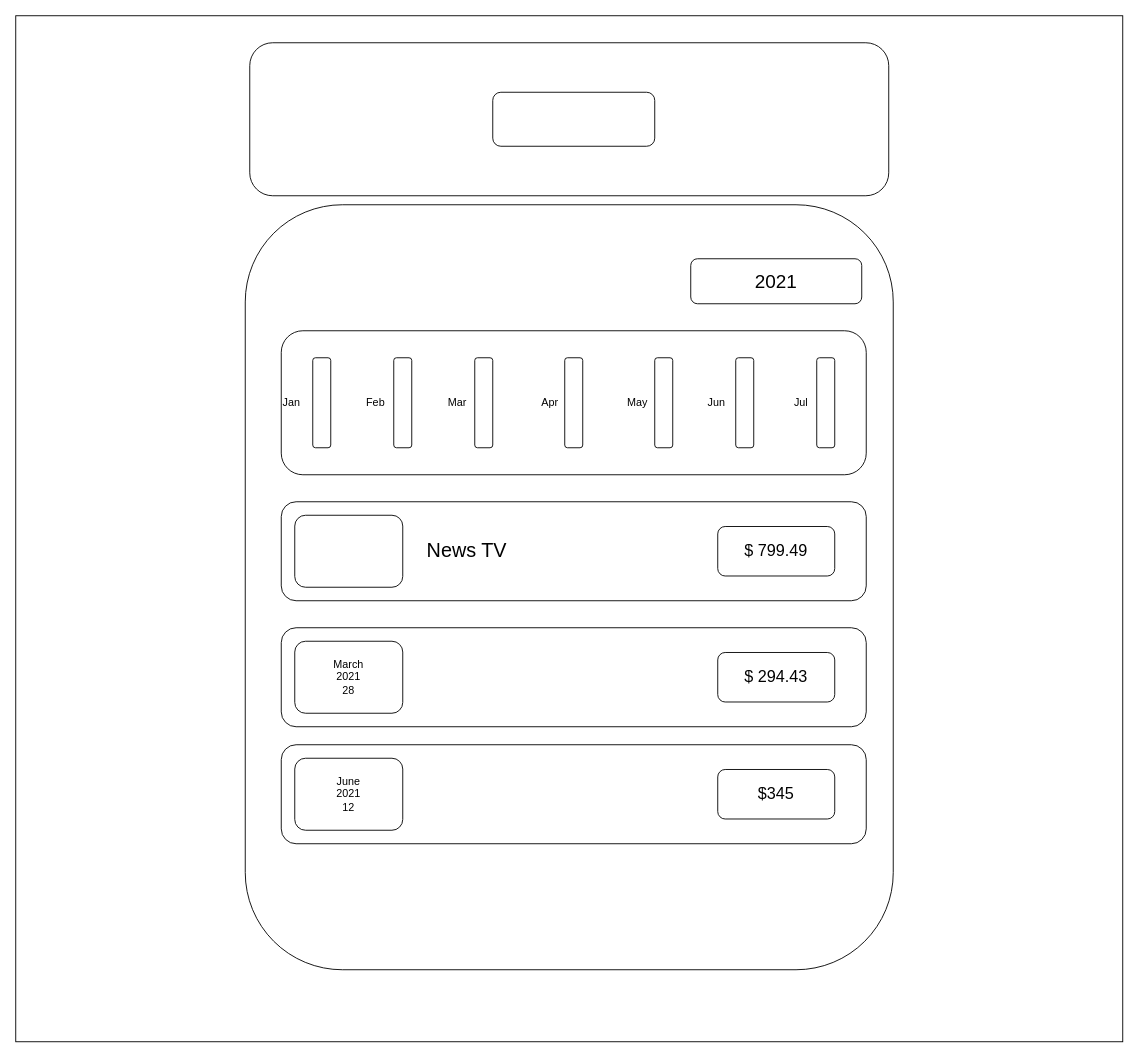
Image size: 1139x1058. Some labels were removed from this diagram. Each missing label, with the box of its shape:
Add New Expense: (492, 91, 655, 146)
Car Insurance: (280, 627, 866, 727)
March 2021 12: (294, 514, 403, 587)
New Desk: (280, 744, 866, 844)
